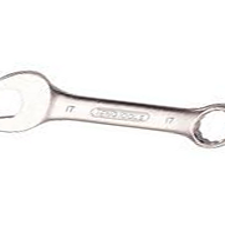wrench: (1, 61, 225, 150)
